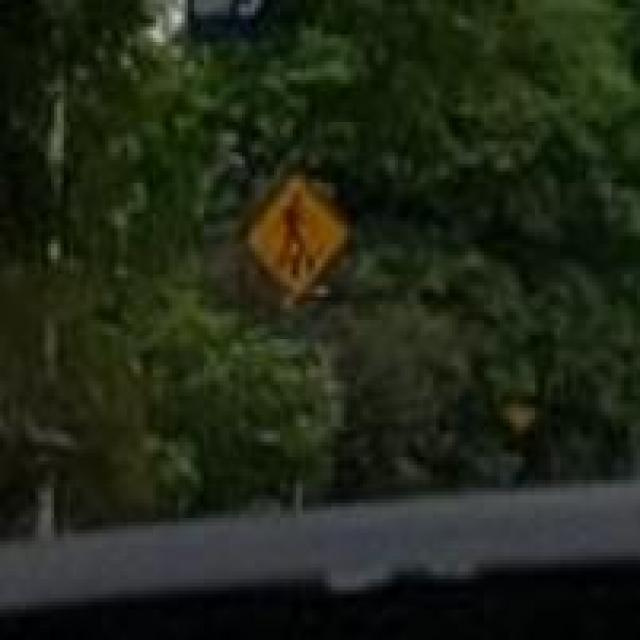traffic sign: (252, 175, 348, 308)
